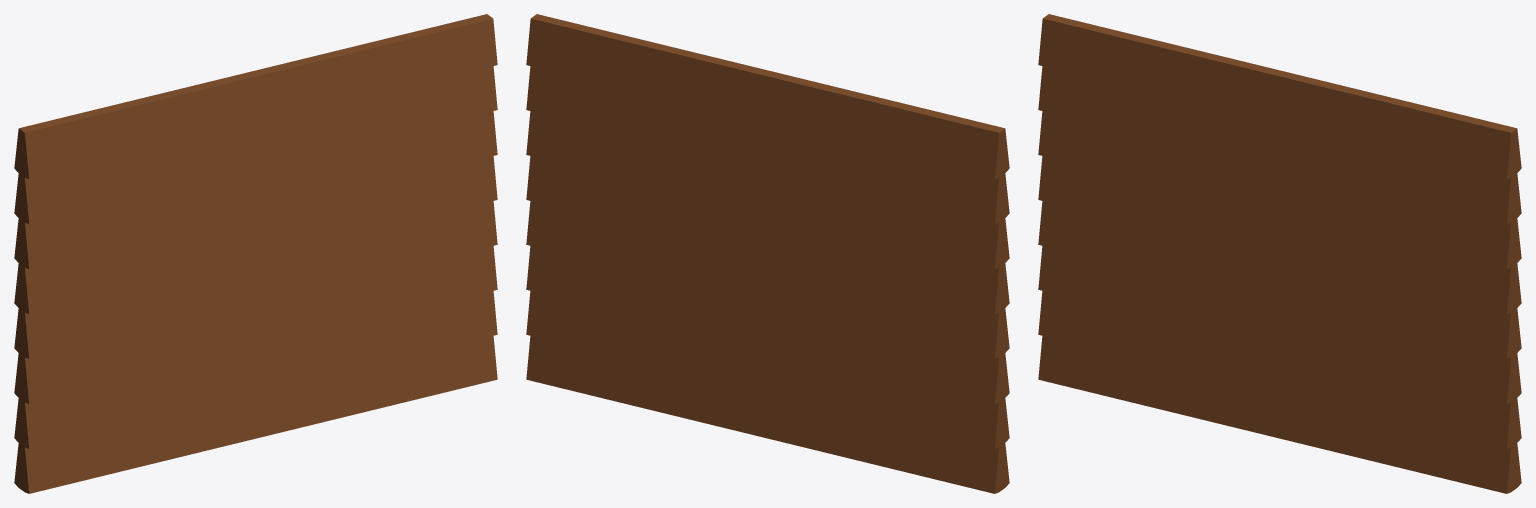
The model's file is ww_wall_a.glb.
The picture shows the model from 3 angles, left to right: view 1: azimuth 30°, elevation 25°; view 2: azimuth 150°, elevation 25°; view 3: azimuth 330°, elevation 25°; orthographic projection.
Visible parts, largest first — view 1: Wall_A; view 2: Wall_A; view 3: Wall_A.
Boxes of the visible parts, box(x1,y1,x2,y2) form: Wall_A: box(14, 14, 497, 493); Wall_A: box(526, 14, 1009, 493); Wall_A: box(1038, 14, 1521, 493).
Size of the model in its own units: 4.8 by 3.52 by 0.2643.
